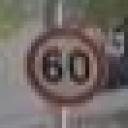speed_limit_60: (23, 25, 107, 113)
